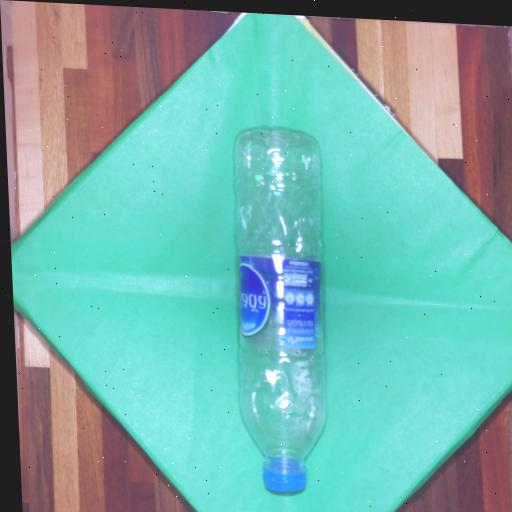bottle: (226, 125, 336, 498)
